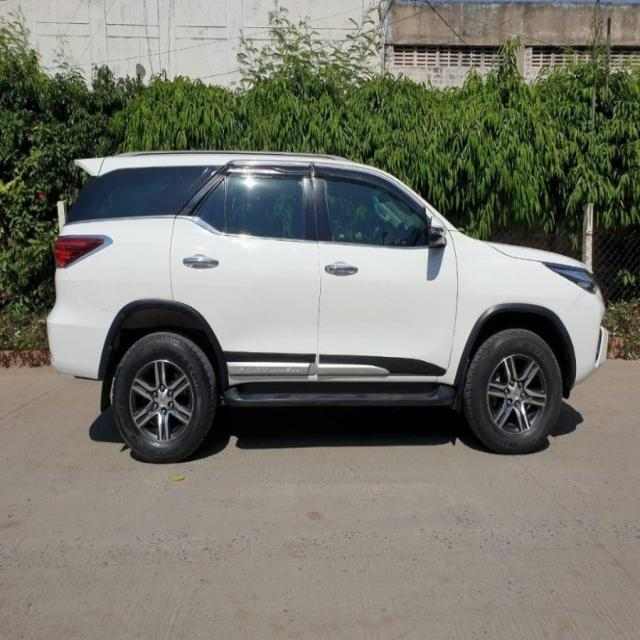light_vehicle: (46, 149, 610, 463)
